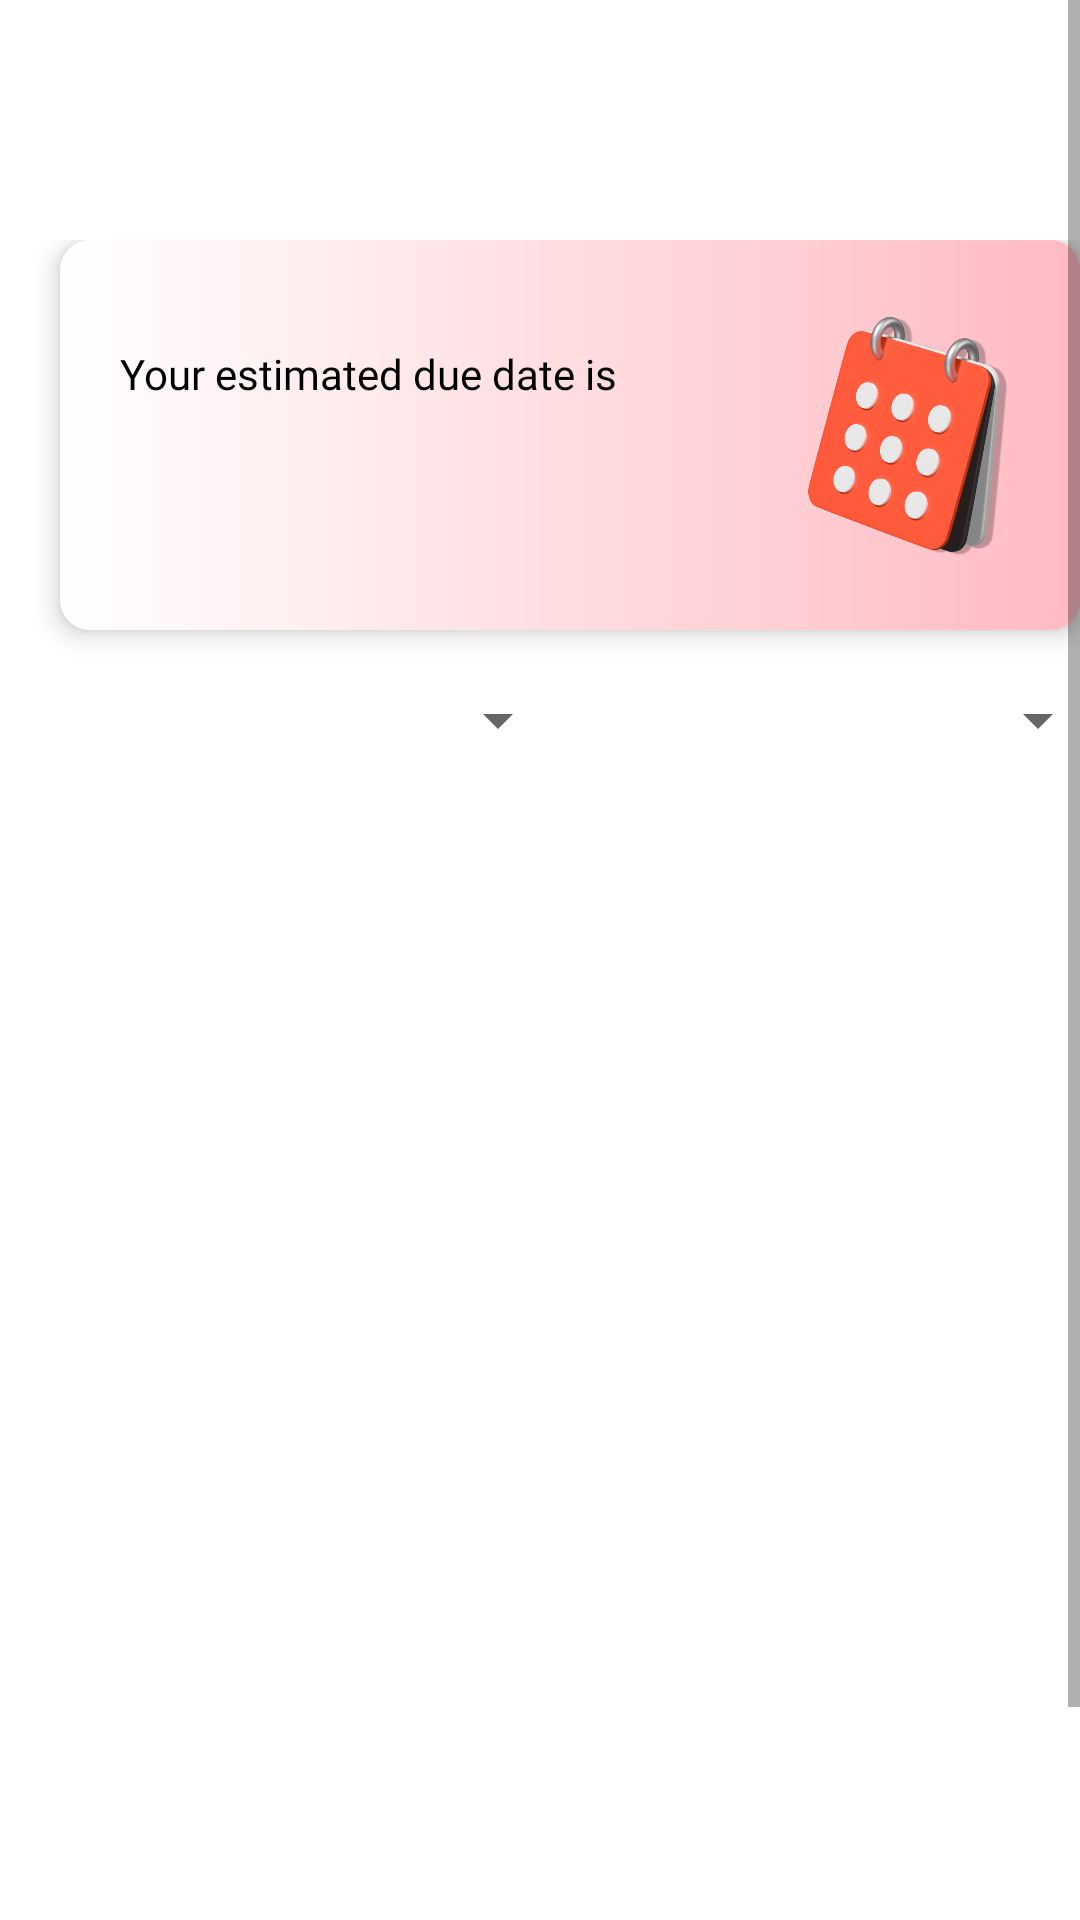

Icon bounding boxes for this 1080w x 1920h phone screenshot, format (x1,y1,x2,y2):
calendar: (808,317,1007,555)
